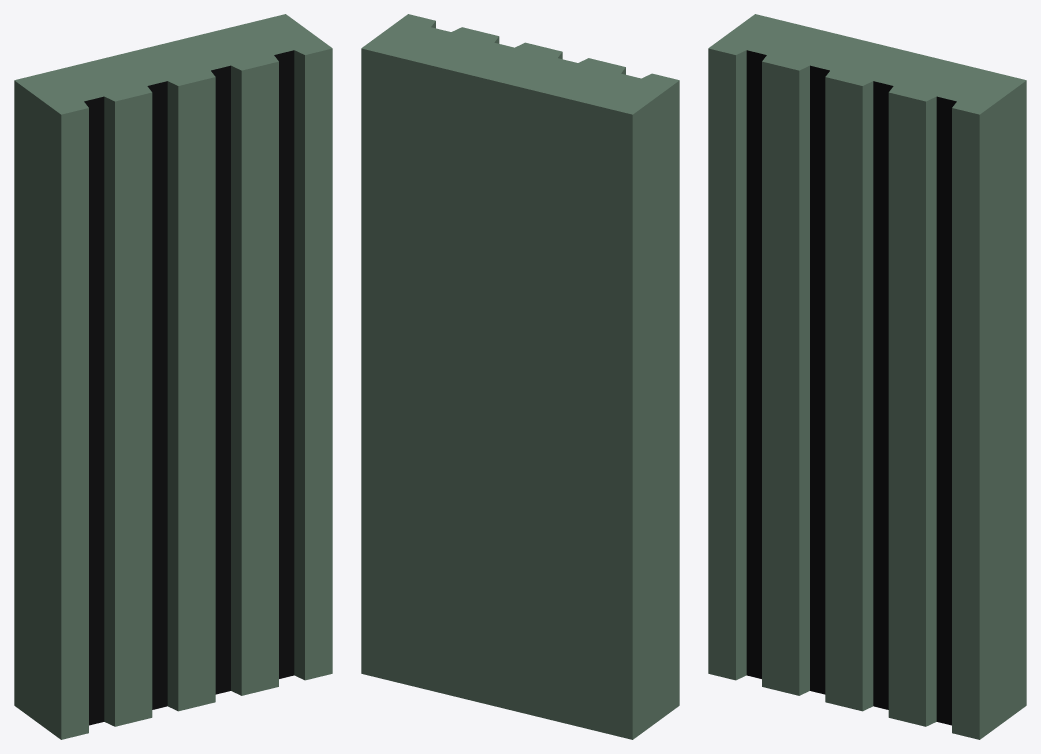
File: W2_Wall_Ridge2.fbx
3 renders of one model, left to right at view 1: azimuth 30°, elevation 25°; view 2: azimuth 150°, elevation 25°; view 3: azimuth 330°, elevation 25°, orthographic.
Visible parts, largest first — view 1: W2_Wall_Ridge2.001; view 2: W2_Wall_Ridge2.001; view 3: W2_Wall_Ridge2.001.
Boxes of the visible parts, x1,y1,x2,y2 form: W2_Wall_Ridge2.001: (14, 14, 332, 739); W2_Wall_Ridge2.001: (361, 14, 679, 739); W2_Wall_Ridge2.001: (708, 14, 1026, 739).
Size of the model in its own units: 1 by 2.2 by 0.3.
